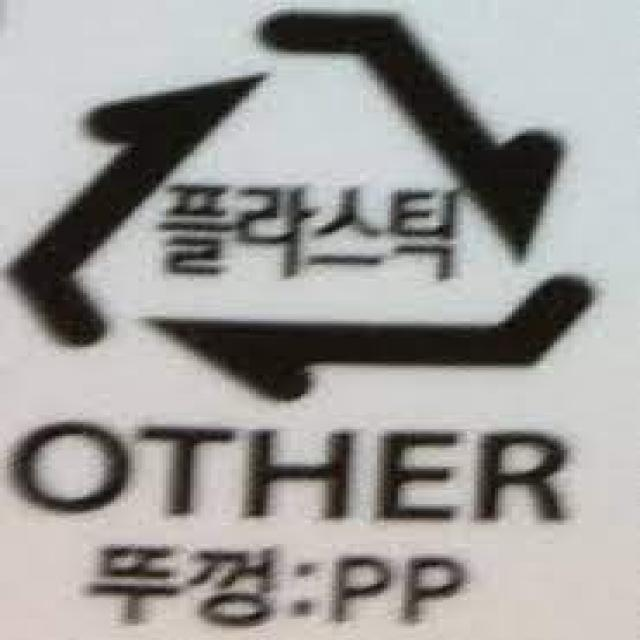Plastic: (9, 3, 608, 406)
